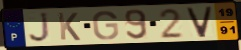2: (158, 7, 184, 40)
9: (123, 9, 148, 41)
G: (91, 9, 121, 41)
J: (28, 11, 53, 44)
K: (57, 11, 83, 42)
V: (185, 5, 215, 39)
